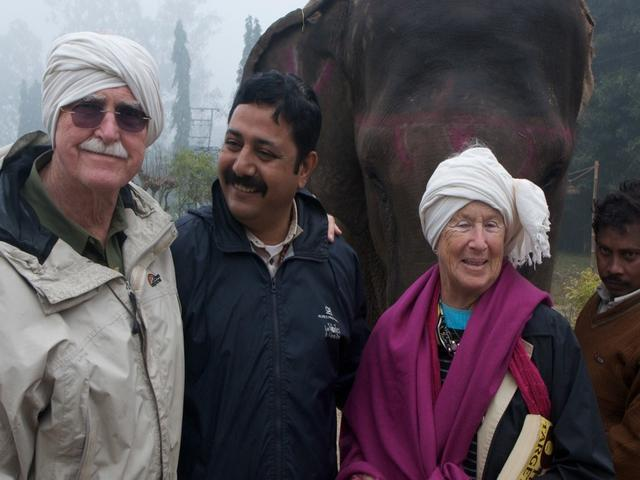elephant: (234, 5, 609, 186)
